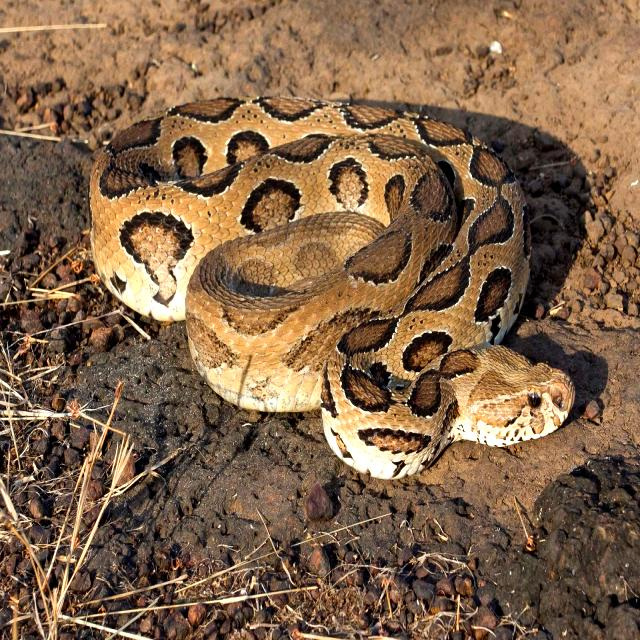Daboia siamensis: (90, 98, 574, 477)
snake: (90, 98, 574, 477)
